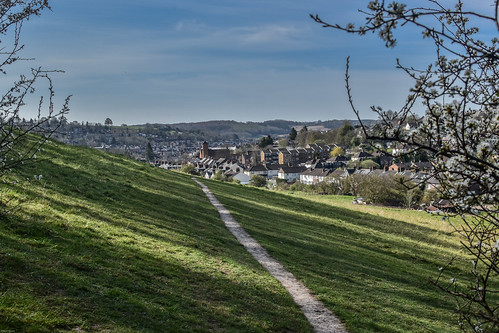building: (194, 147, 240, 179), (257, 165, 302, 182), (307, 161, 330, 185), (259, 145, 282, 162)
grass: (2, 141, 248, 333), (273, 191, 499, 333)
sky: (42, 1, 395, 110)
tree: (356, 15, 499, 333)
